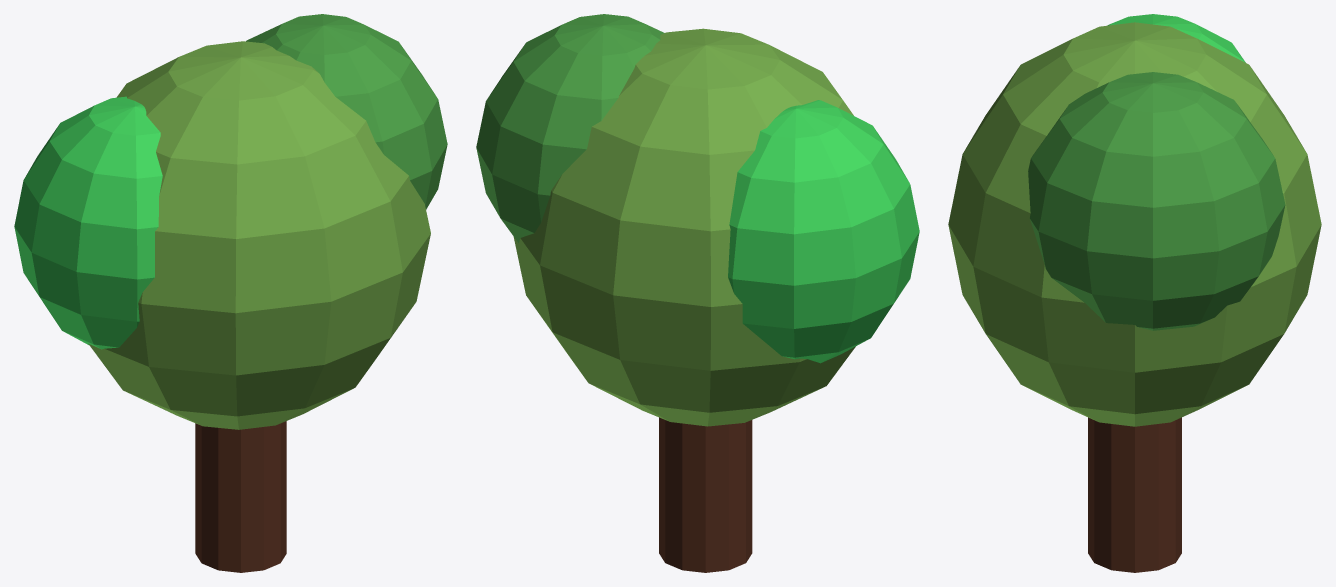
The model's file is tree_round.glb.
The picture shows the model from 3 angles, left to right: view 1: azimuth 30°, elevation 25°; view 2: azimuth 150°, elevation 25°; view 3: azimuth 270°, elevation 25°; orthographic projection. The views are drawn at different scales.
Parts seen in each view (by area): view 1: tree_round_Surface; view 2: tree_round_Surface; view 3: tree_round_Surface.
Part boxes in pixels (<box>): tree_round_Surface: <box>14,14,447,572</box>; tree_round_Surface: <box>476,14,919,572</box>; tree_round_Surface: <box>948,14,1321,572</box>.
Size of the model in its own units: 1.31 by 1.57 by 1.03.
1 material, 1 textured.
